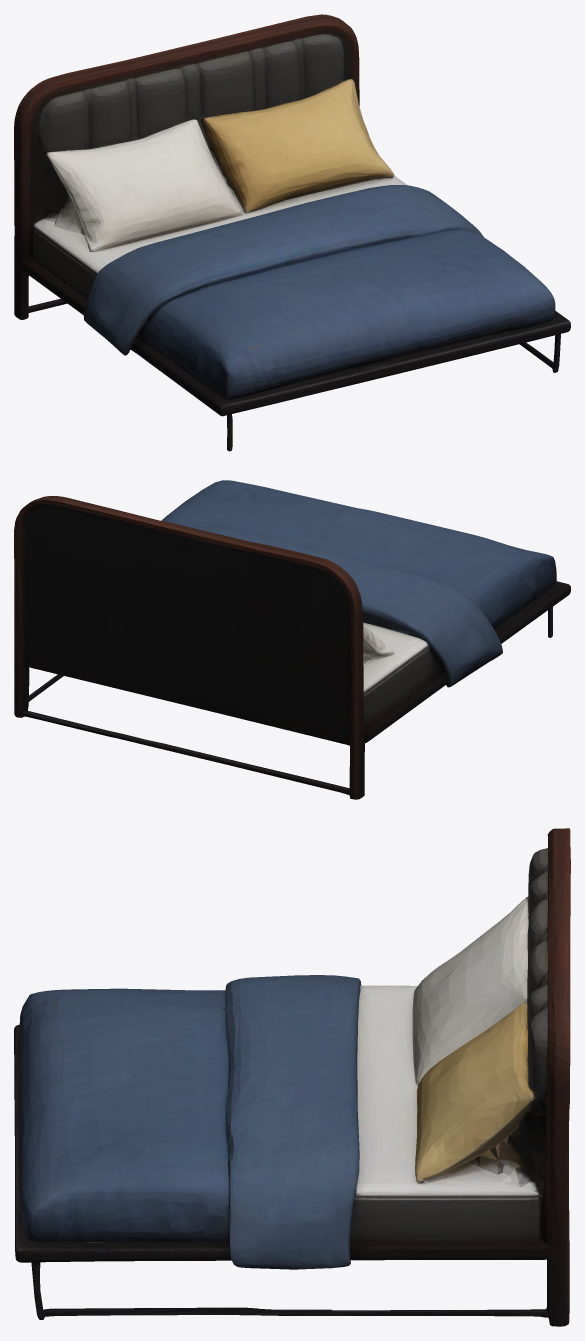
File: bed_double_blue.glb
3 views of the same model, one above another, from view 1: azimuth 30°, elevation 25°; view 2: azimuth 150°, elevation 25°; view 3: azimuth 270°, elevation 25° (orthographic). The views are drawn at different scales.
Visible parts, largest first — view 1: geometry_0; view 2: geometry_0; view 3: geometry_0.
Boxes of the visible parts, x1,y1,x2,y2 form: geometry_0: [14, 14, 570, 451]; geometry_0: [14, 480, 570, 799]; geometry_0: [14, 828, 570, 1326].
Bounding box in the file's own units: 0.9898 × 0.5694 × 0.9583.
Materials: 1 (1 with a texture image).
